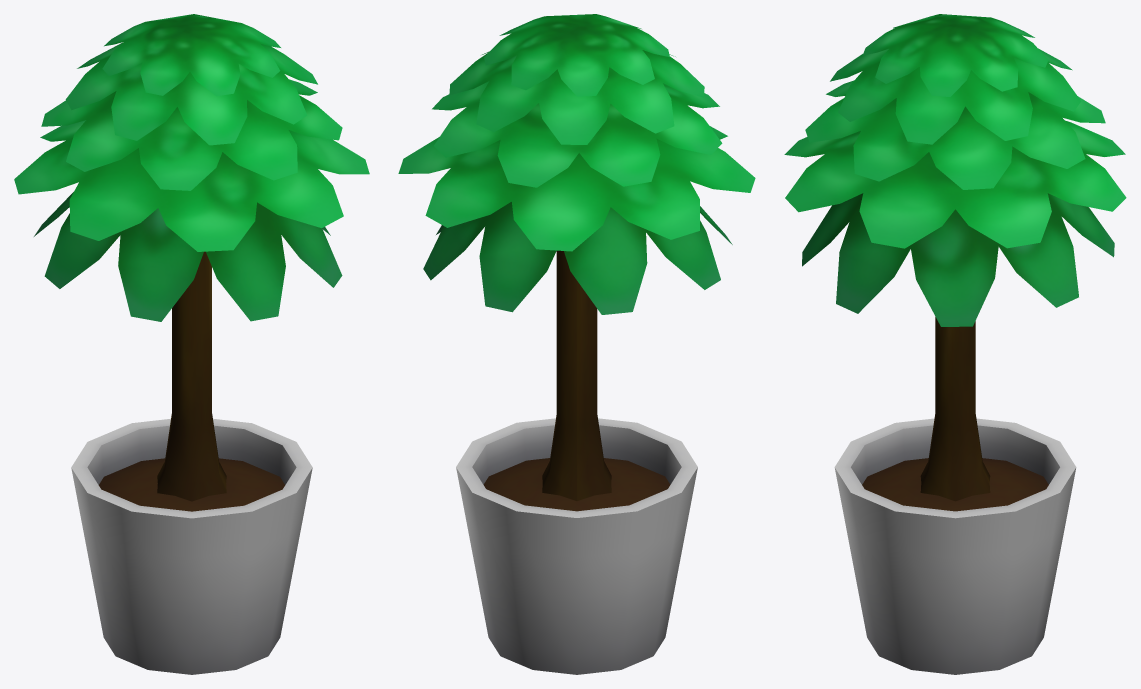
File: planta.obj
The picture shows the model from 3 angles, left to right: view 1: azimuth 30°, elevation 25°; view 2: azimuth 150°, elevation 25°; view 3: azimuth 270°, elevation 25°; orthographic projection.
Visible parts, largest first — view 1: polySurface1; view 2: polySurface1; view 3: polySurface1.
Boxes of the visible parts, x1,y1,x2,y2 form: polySurface1: (14,14,369,674); polySurface1: (398,14,755,674); polySurface1: (784,14,1126,674).
Size of the model in its own units: 1.82 by 3.58 by 1.82.
Materials: 1 (1 with a texture image).
